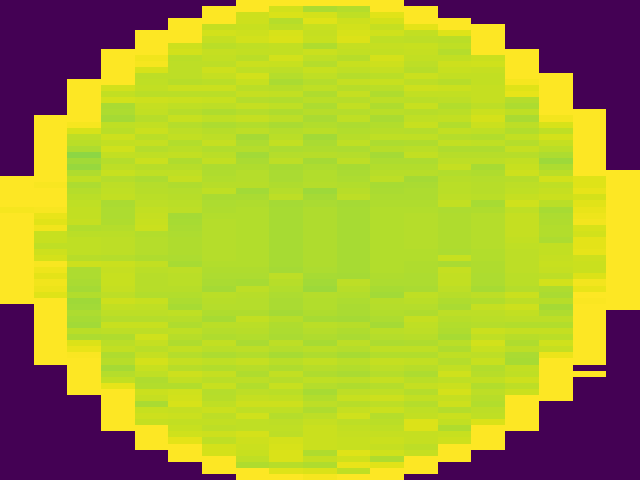sphere: (5, 4, 640, 480)
